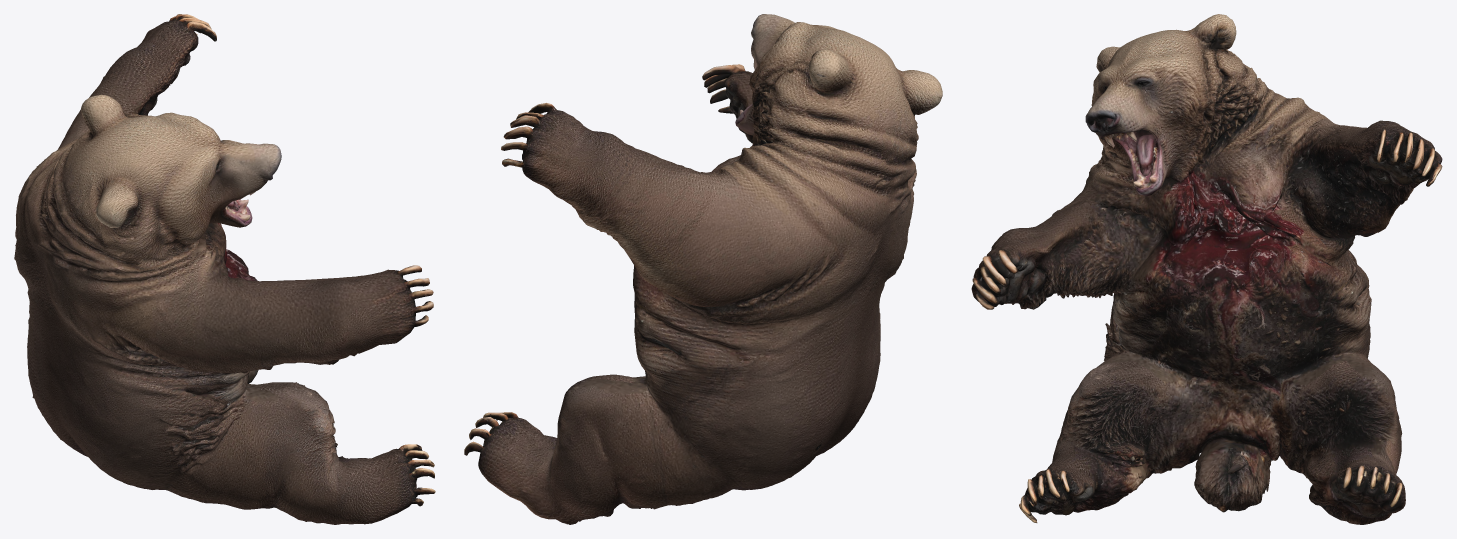
Rendered from dead-grizzly-model.glb.
3 renders of one model, left to right at view 1: azimuth 30°, elevation 25°; view 2: azimuth 150°, elevation 25°; view 3: azimuth 270°, elevation 25°, orthographic. The views are drawn at different scales.
Visible parts, largest first — view 1: tripo_node_79743f6c-2e3d-41d6-9190-0a1a64b1f5fe; view 2: tripo_node_79743f6c-2e3d-41d6-9190-0a1a64b1f5fe; view 3: tripo_node_79743f6c-2e3d-41d6-9190-0a1a64b1f5fe.
Part boxes in pixels (bbox=[...]): tripo_node_79743f6c-2e3d-41d6-9190-0a1a64b1f5fe: bbox=[14, 14, 435, 524]; tripo_node_79743f6c-2e3d-41d6-9190-0a1a64b1f5fe: bbox=[464, 14, 942, 524]; tripo_node_79743f6c-2e3d-41d6-9190-0a1a64b1f5fe: bbox=[971, 14, 1442, 524].
Bounding box in the file's own units: 0.7618 × 1 × 0.9999.
1 material, 1 textured.
